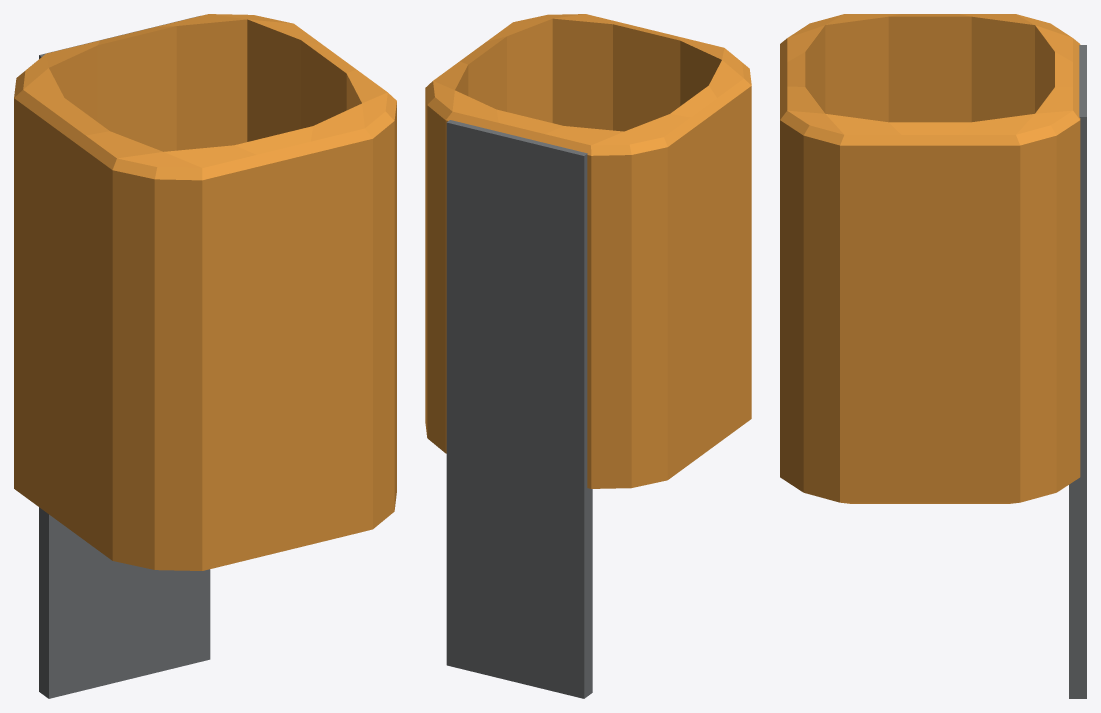
File: garbage.glb
The picture shows the model from 3 angles, left to right: view 1: azimuth 30°, elevation 25°; view 2: azimuth 150°, elevation 25°; view 3: azimuth 270°, elevation 25°; orthographic projection. The views are drawn at different scales.
Parts seen in each view (by area): view 1: Cube; view 2: Cube; view 3: Cube.
Part boxes in pixels (bbox=[...]): Cube: bbox=[14, 14, 396, 698]; Cube: bbox=[425, 14, 751, 698]; Cube: bbox=[780, 14, 1086, 698].
Size of the model in its own units: 0.4636 by 1.01 by 0.4739.
